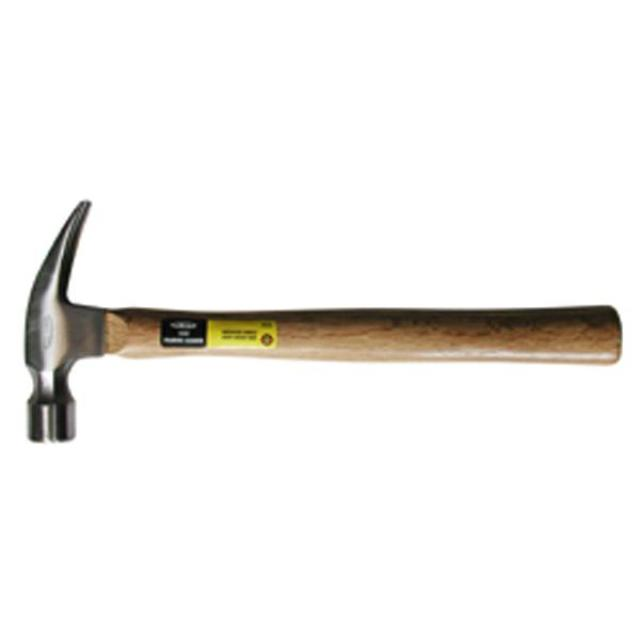hammer: (1, 180, 640, 480)
